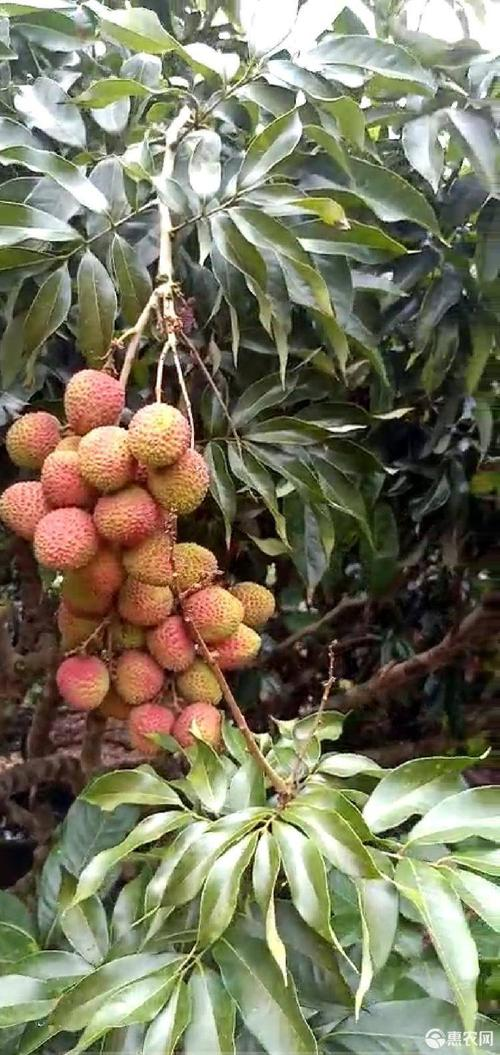litchi: (14, 375, 261, 744)
stem: (144, 104, 195, 341)
